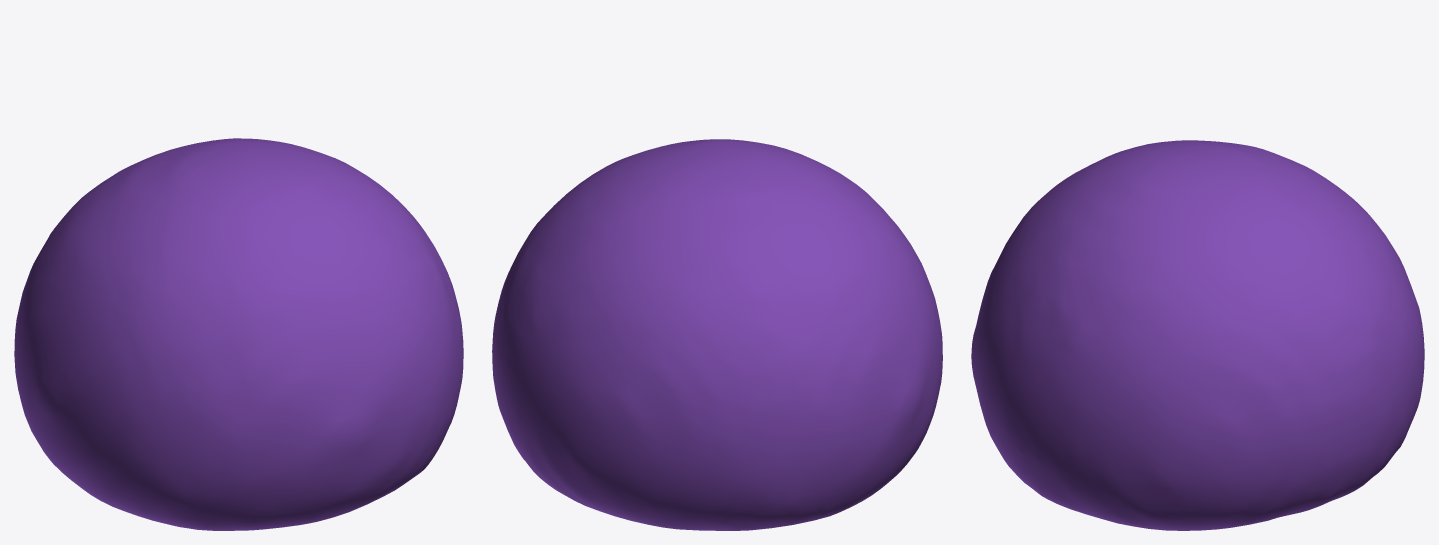
File: slime_0019.dae
The picture shows the model from 3 angles, left to right: view 1: azimuth 30°, elevation 25°; view 2: azimuth 150°, elevation 25°; view 3: azimuth 270°, elevation 25°; orthographic projection.
Parts seen in each view (by area): view 1: Slime; view 2: Slime; view 3: Slime.
Part boxes in pixels (box(x1,y1,x2,y2)): Slime: box(14, 138, 463, 530); Slime: box(492, 139, 942, 530); Slime: box(971, 140, 1424, 530).
Bounding box in the file's own units: 2.05 × 2.3 × 2.06.
